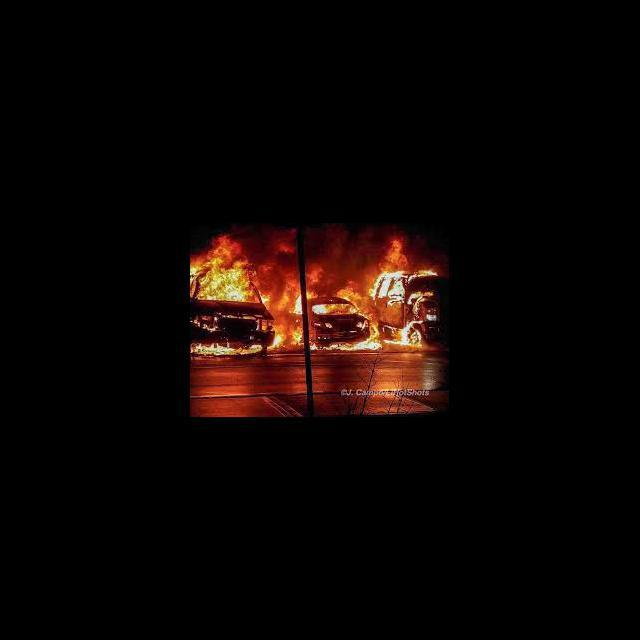Fire: (190, 232, 264, 305), (370, 236, 411, 302), (190, 338, 262, 359), (384, 318, 426, 349), (310, 337, 382, 353), (338, 282, 364, 314), (272, 232, 296, 257), (308, 260, 326, 287), (266, 330, 286, 353), (289, 322, 304, 351), (413, 262, 439, 278), (366, 308, 382, 334), (411, 290, 433, 308), (289, 294, 303, 316), (312, 303, 329, 314), (262, 292, 274, 306)
